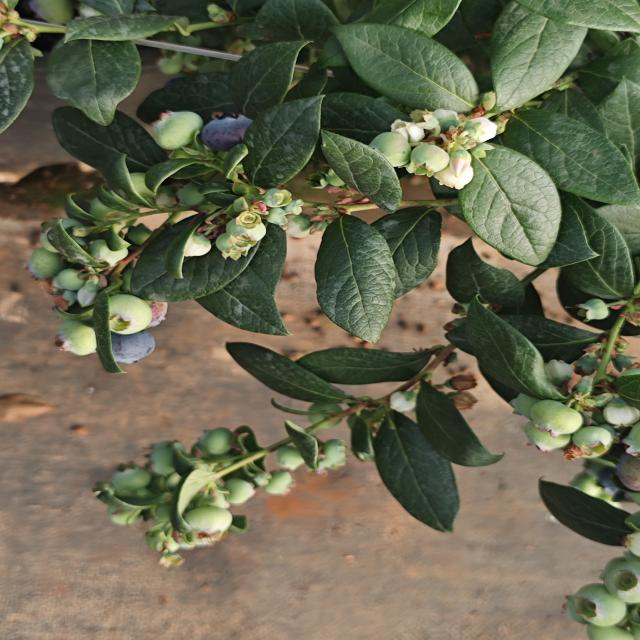ripe: (192, 110, 265, 156), (100, 328, 165, 366)
